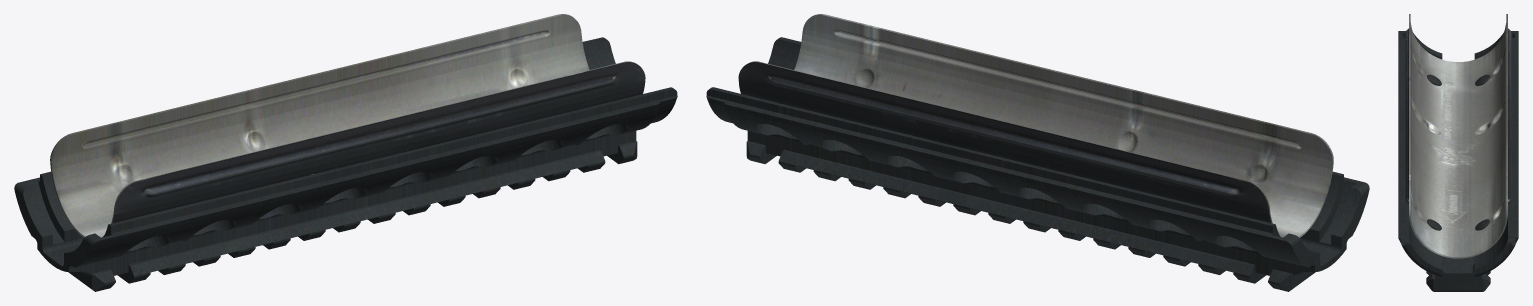
Rendered from Lower_Handguard.dae.
3 views of the same model, side by side, from view 1: azimuth 30°, elevation 25°; view 2: azimuth 150°, elevation 25°; view 3: azimuth 270°, elevation 25° (orthographic). The views are drawn at different scales.
Parts seen in each view (by area): view 1: Lower_Handguard; view 2: Lower_Handguard; view 3: Lower_Handguard.
Part boxes in pixels (box(x1,y1,x2,y2)): Lower_Handguard: box(14, 14, 677, 291); Lower_Handguard: box(706, 14, 1369, 291); Lower_Handguard: box(1398, 14, 1518, 291).
Bounding box in the file's own units: 0.1642 × 0.0386 × 0.0311.
1 material, 1 textured.
